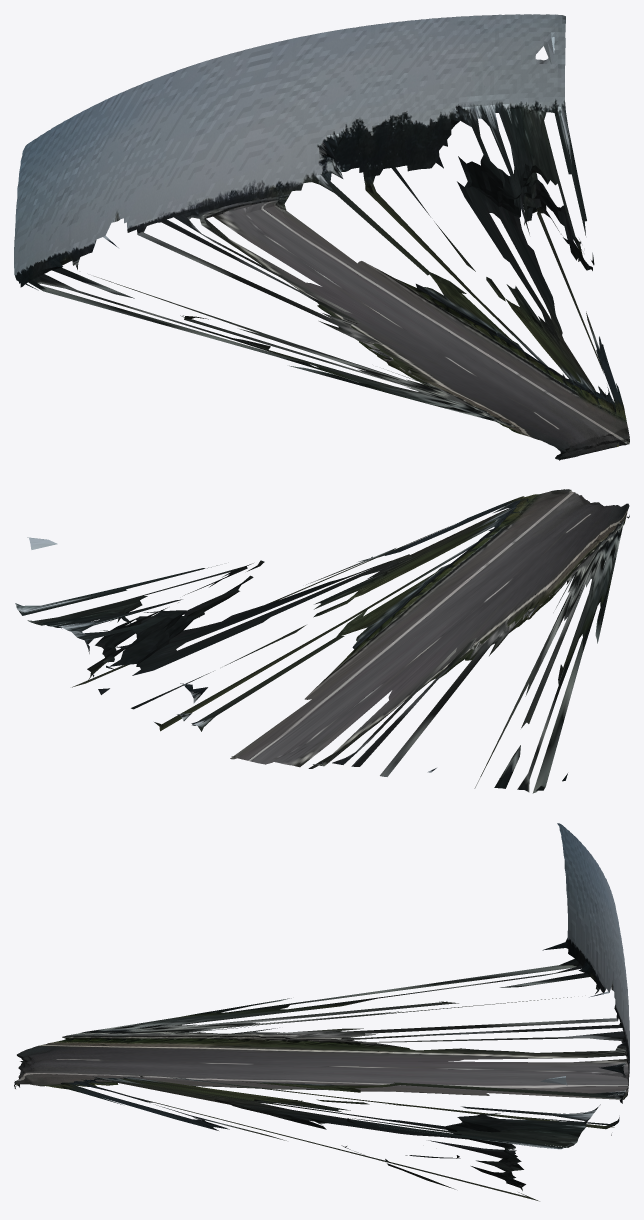
3 views of the same model, one above another, from view 1: azimuth 30°, elevation 25°; view 2: azimuth 150°, elevation 25°; view 3: azimuth 270°, elevation 25° (orthographic). The views are drawn at different scales.
Visible parts, largest first — view 1: defaultobject; view 2: defaultobject; view 3: defaultobject.
Boxes of the visible parts, x1,y1,x2,y2 form: defaultobject: [14, 14, 629, 460]; defaultobject: [15, 489, 629, 793]; defaultobject: [14, 823, 629, 1201].
Size of the model in its own units: 41.12 by 13.47 by 44.44.
Materials: 1 (1 with a texture image).
